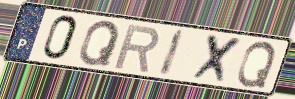0: (41, 14, 79, 63)
I: (156, 27, 187, 79)
Q: (77, 19, 122, 67), (235, 40, 278, 89)
R: (112, 22, 162, 74)
X: (189, 32, 246, 86)
